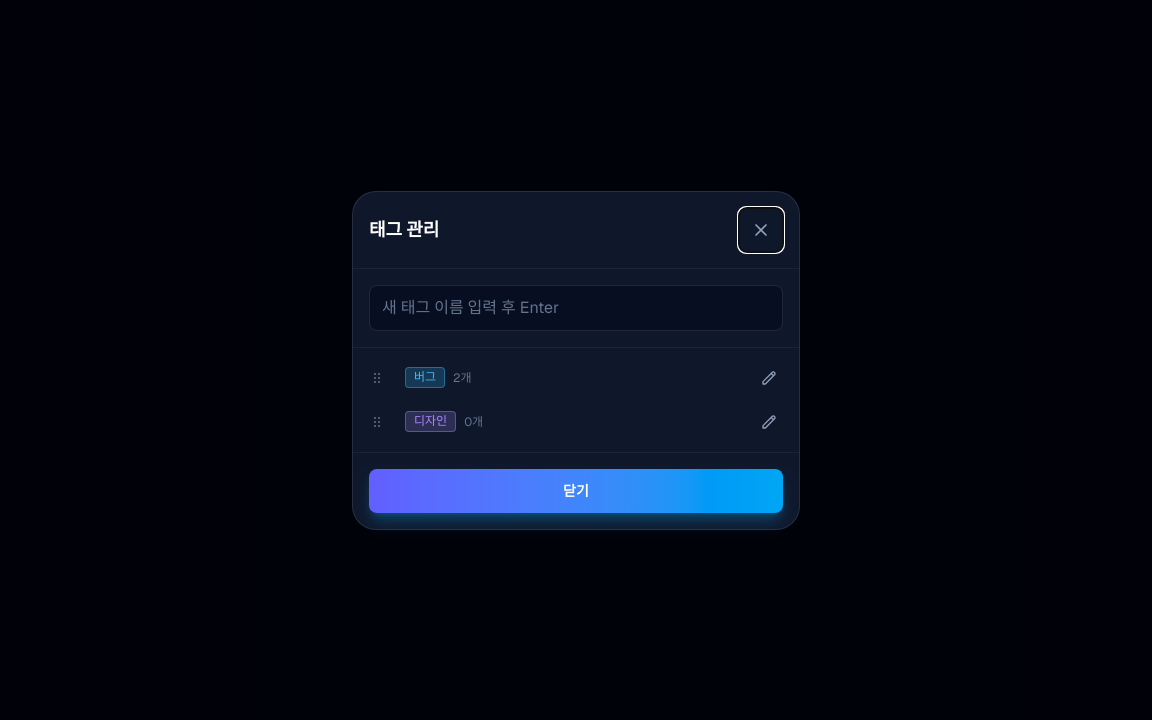
Test: TagModal — 태그 수정 중 footer › 편집을 열면 footer의 "닫기"가 "취소 / 저장"으로 바뀌고, 취소하면 되돌아온다
Expected: the number of buttons named "닫기" is 2, [739,208,783,252]; [369,468,783,512]
Click the button named "버그 태그 수정" at (769, 378), box [747,356,791,400]
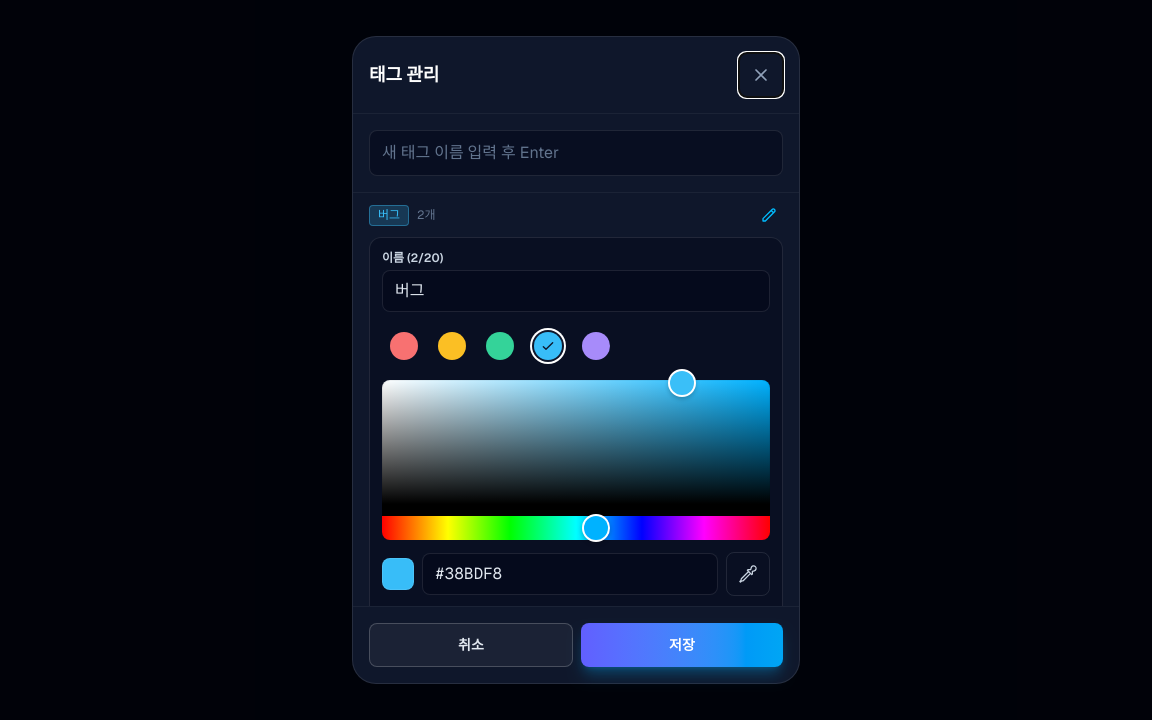
Now the number of buttons named "닫기" is 1, box [739,53,783,97]
Now the button "저장" is shown, box [581,623,783,667]
Click the button "취소" at (471, 645), box [369,623,573,667]
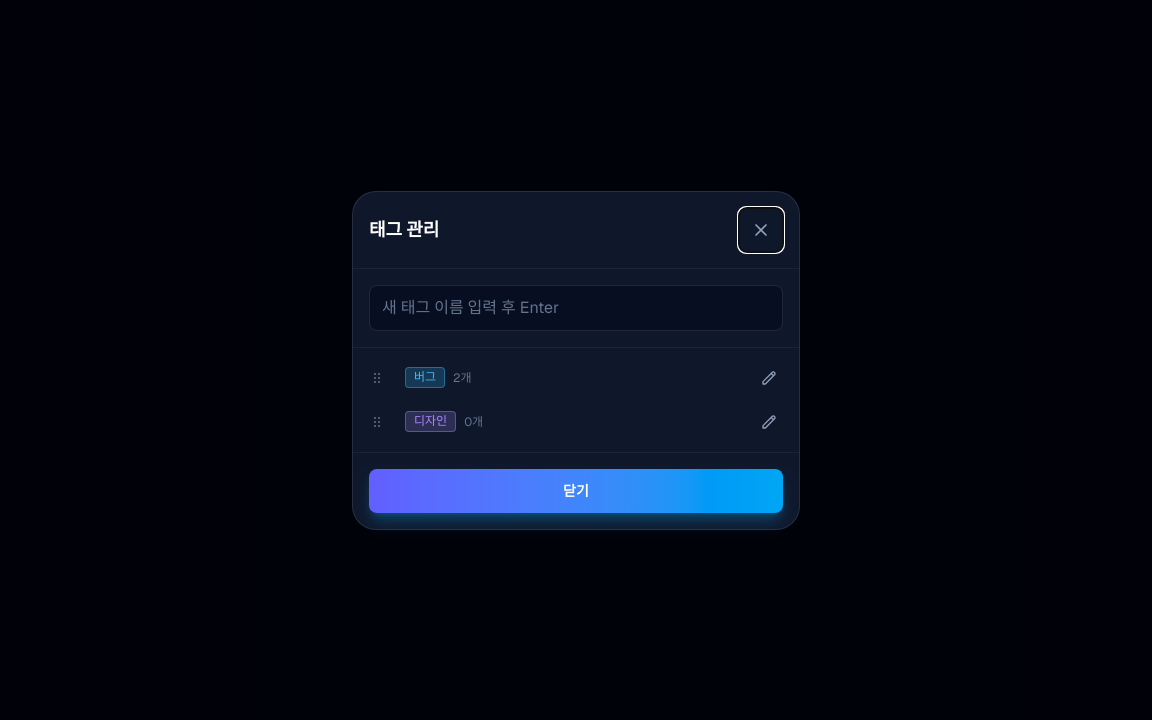
Now the number of buttons named "닫기" is 2, box [739,208,783,252]; [369,468,783,512]
Now the button "저장" is gone
